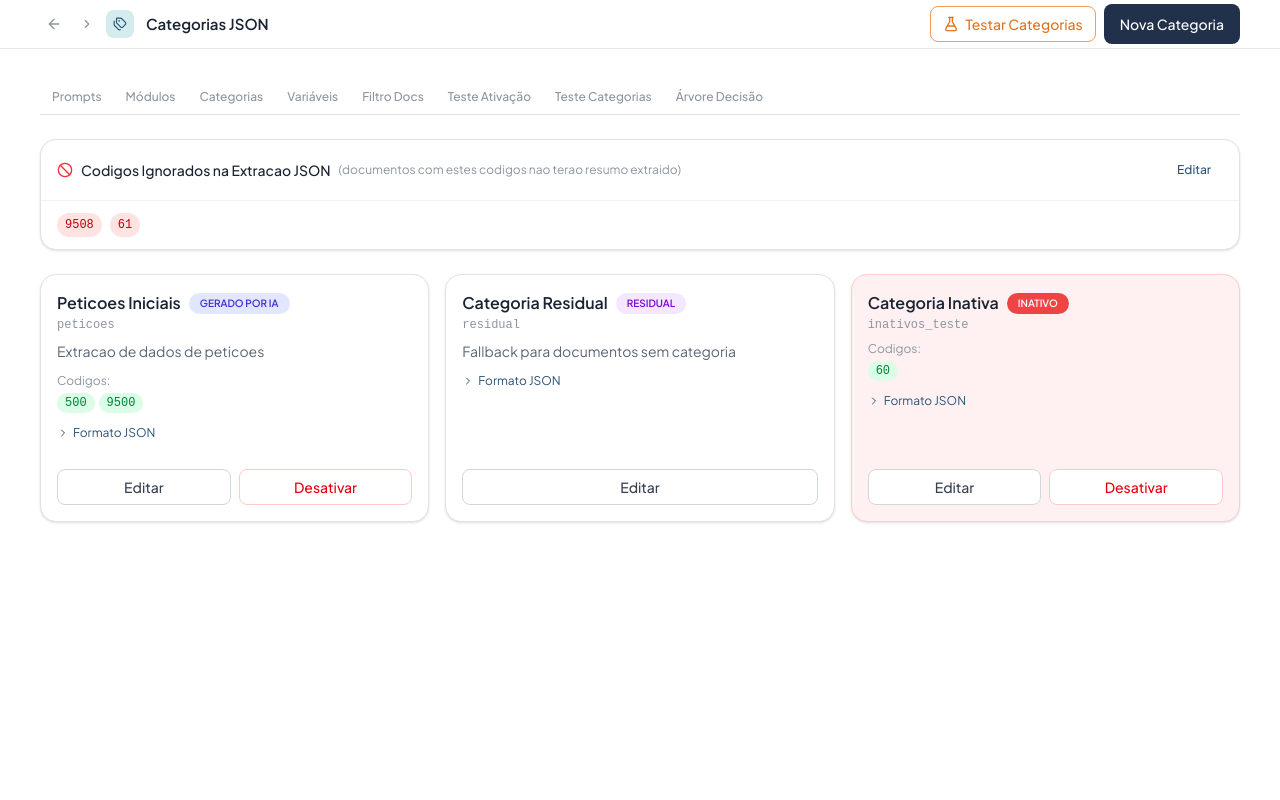
CategoriasJsonPage › deve abrir editor para editar (campos populados, motivo visivel)
expect the heading "Peticoes Iniciais" is shown: met, box [57,291,181,315]
Clicar em Editar da primeira categoria
Click the button with test id "btn-editar-1" at (144, 487), box [57,469,231,505]
(page scrolled)
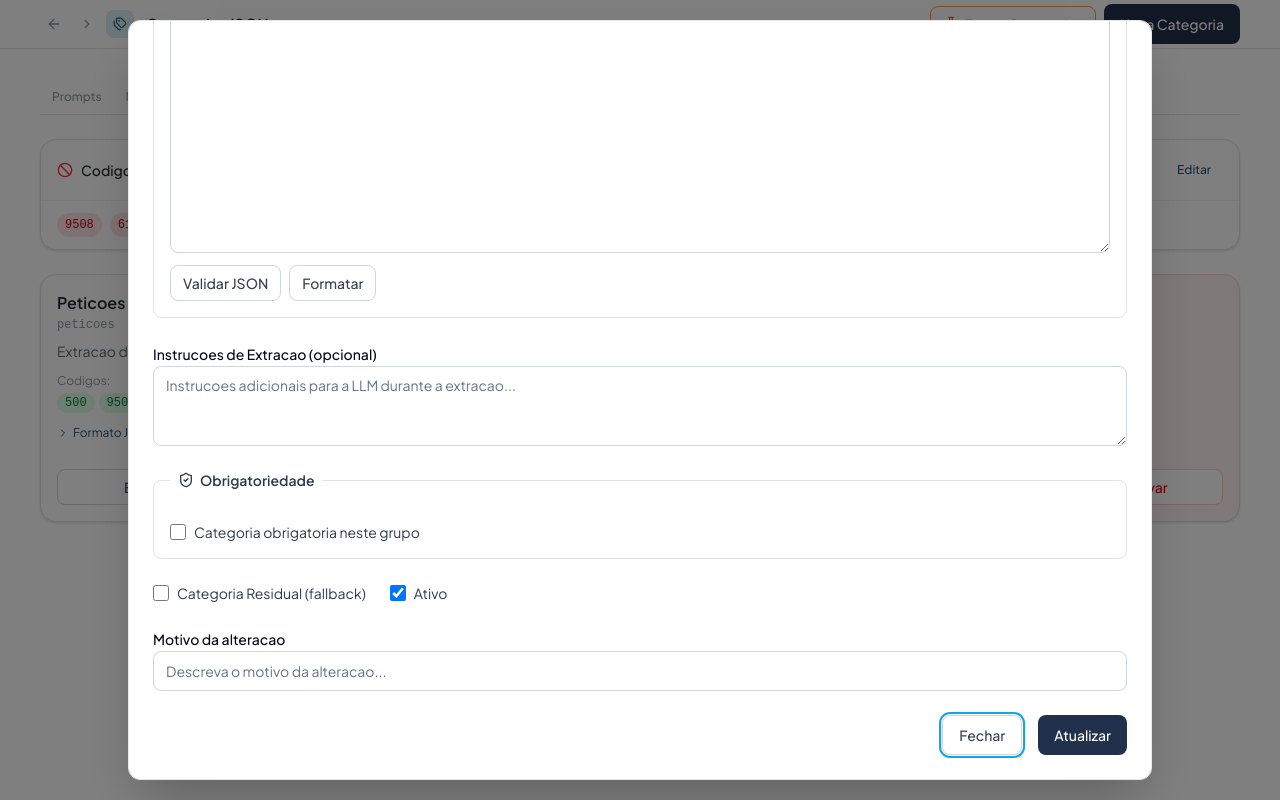
expect the field with test id "input-motivo" is shown: met, box [153,651,1127,691]
